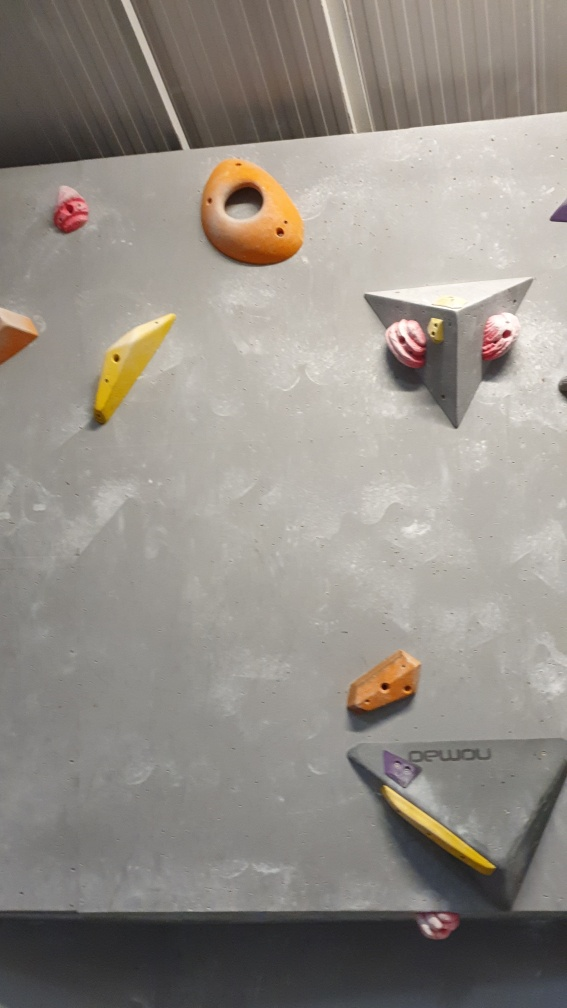Crimp: (382, 747, 424, 793)
Jug: (384, 314, 433, 373), (48, 179, 93, 233), (485, 312, 521, 371), (417, 909, 463, 942)
Pinch: (96, 314, 177, 430), (345, 651, 421, 721), (1, 303, 41, 372)
Pocket: (198, 155, 307, 268)
